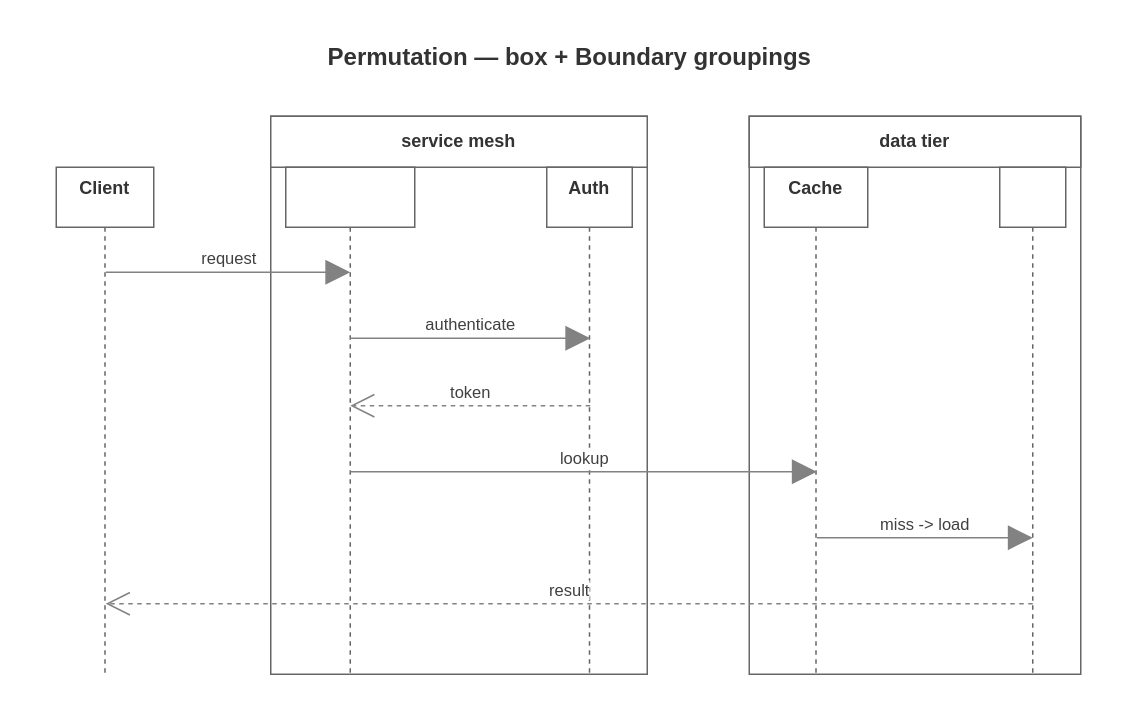
Some shapes in this 1136 by 701 pixel diagram are drawn without their labels. Each missing label, with the box of its shape:
DB: (998, 166, 1066, 674)
Gateway: (284, 166, 415, 674)
